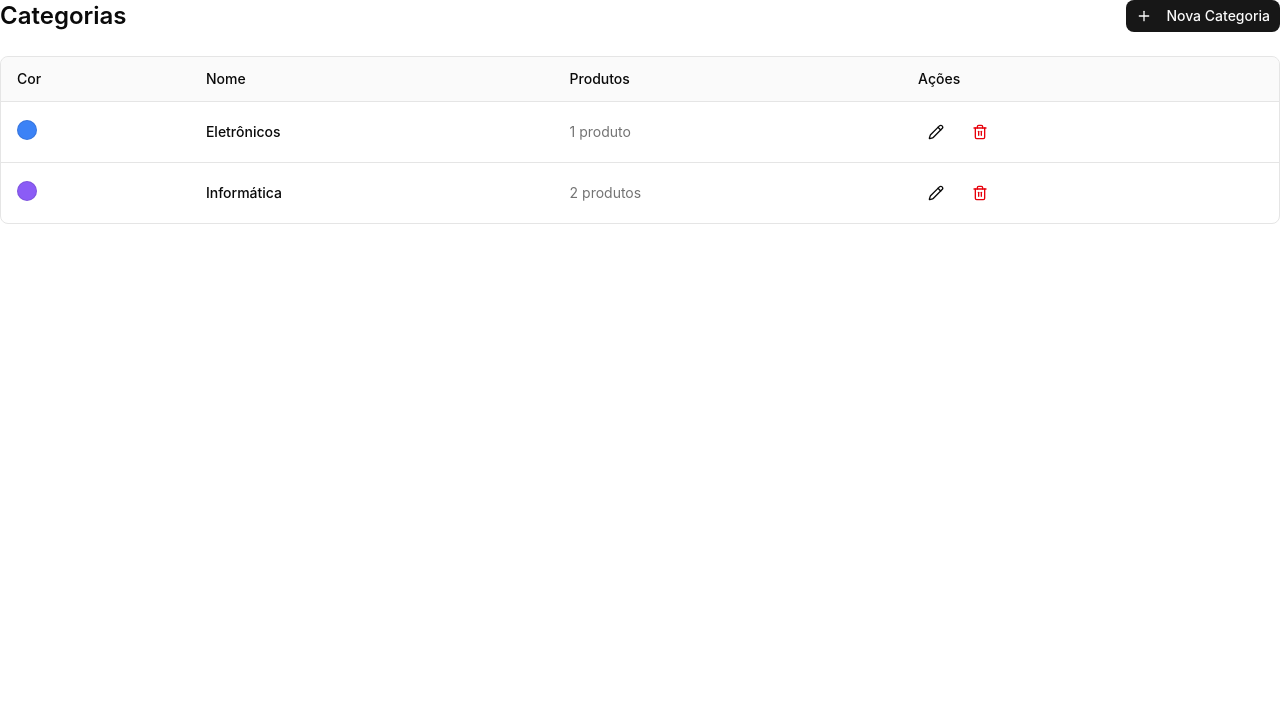
Test case: CategoriesPage › abre o modal de edição com os dados preenchidos
Expected: the text "Eletrônicos" is shown, [190,102,554,162]
Click the button named "editar eletrônicos" at {"x": 936, "y": 132}, box [918,114,954,150]
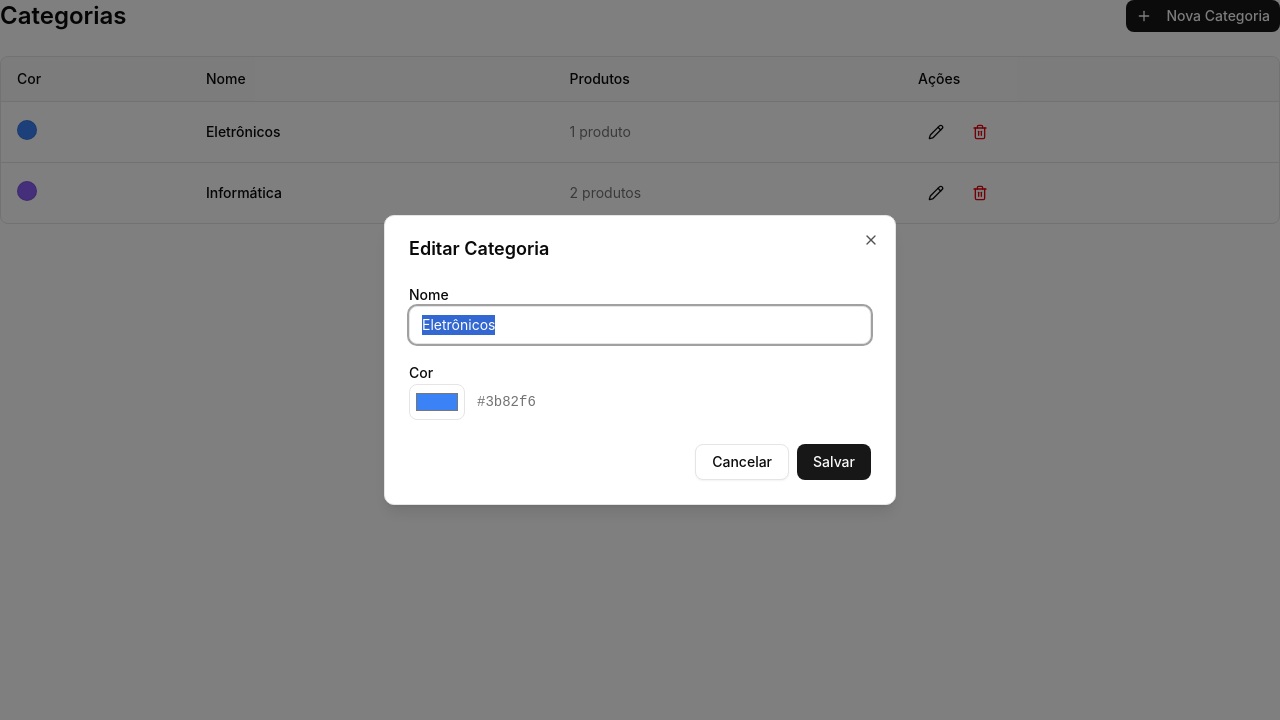
Now the field with test id "field-cat-name" holds "Eletrônicos", box [409,306,871,344]
